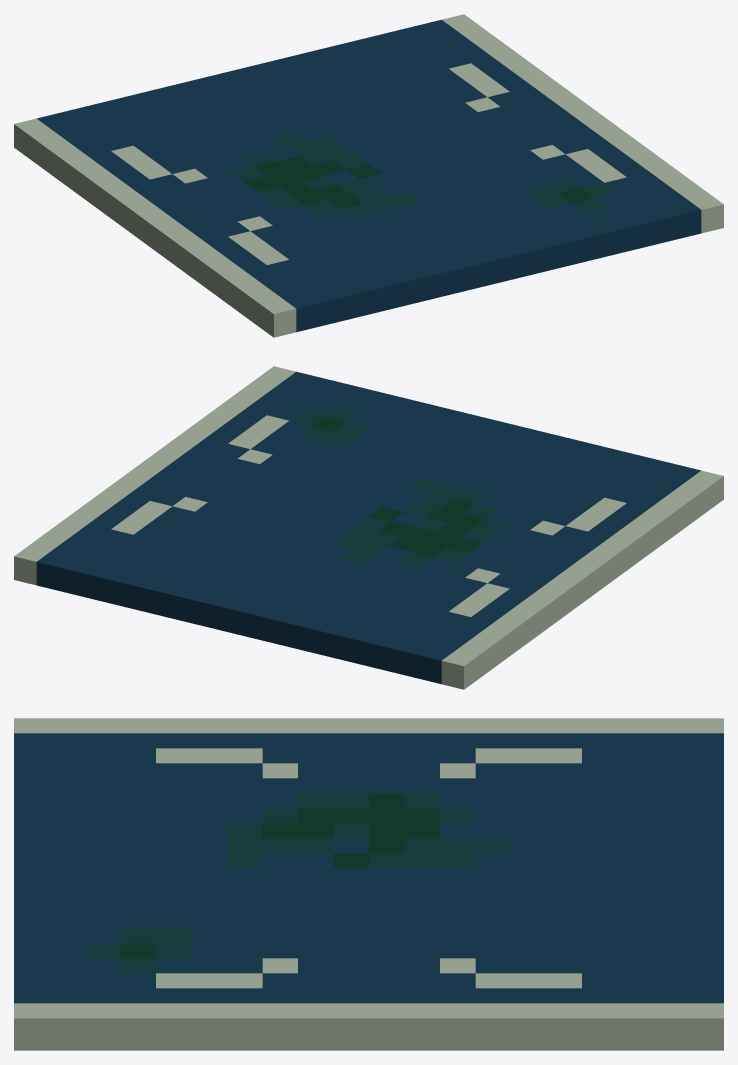
File: BlueRug_Mid_02.obj
The picture shows the model from 3 angles, top to bottom: view 1: azimuth 30°, elevation 25°; view 2: azimuth 150°, elevation 25°; view 3: azimuth 270°, elevation 25°; orthographic projection. The views are drawn at different scales.
Parts seen in each view (by area): view 1: BlueRug_Mid_02.001; view 2: BlueRug_Mid_02.001; view 3: BlueRug_Mid_02.001.
Part boxes in pixels (left/top/right/bottom): BlueRug_Mid_02.001: left=14, top=14, right=723, bottom=337; BlueRug_Mid_02.001: left=14, top=366, right=723, bottom=689; BlueRug_Mid_02.001: left=14, top=718, right=723, bottom=1050.
Bounding box in the file's own units: 2 × 0.1 × 2.
